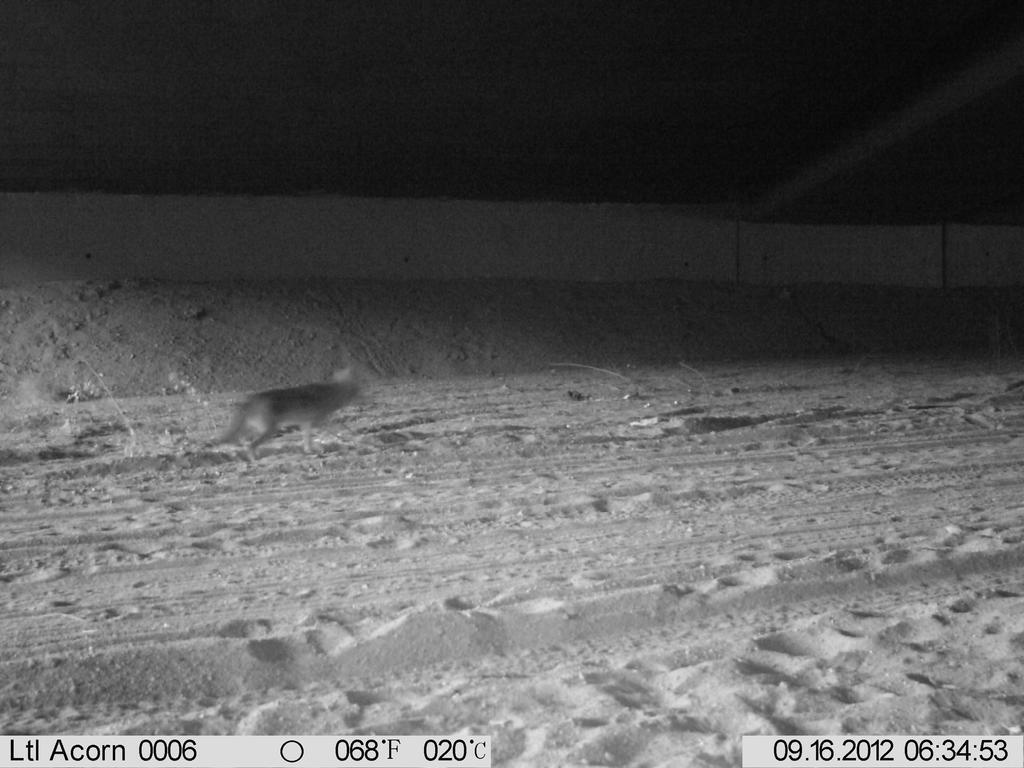coyote: (203, 356, 377, 473)
